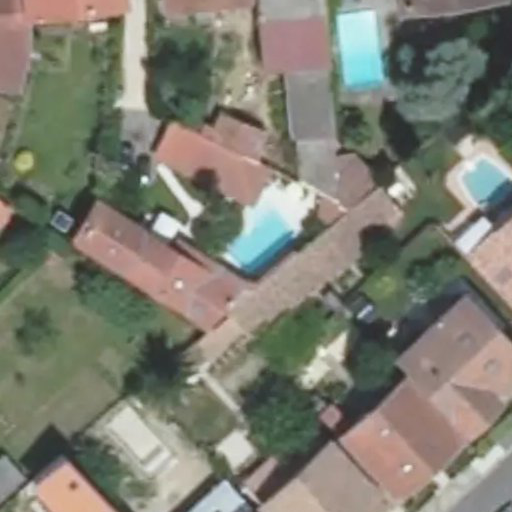pool: (211, 238, 292, 246)
